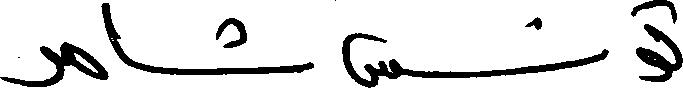X: (239, 16, 313, 78), (0, 37, 66, 87), (343, 28, 398, 87), (68, 0, 104, 84), (645, 0, 665, 86), (106, 0, 123, 84), (667, 0, 682, 84), (591, 44, 606, 67)
